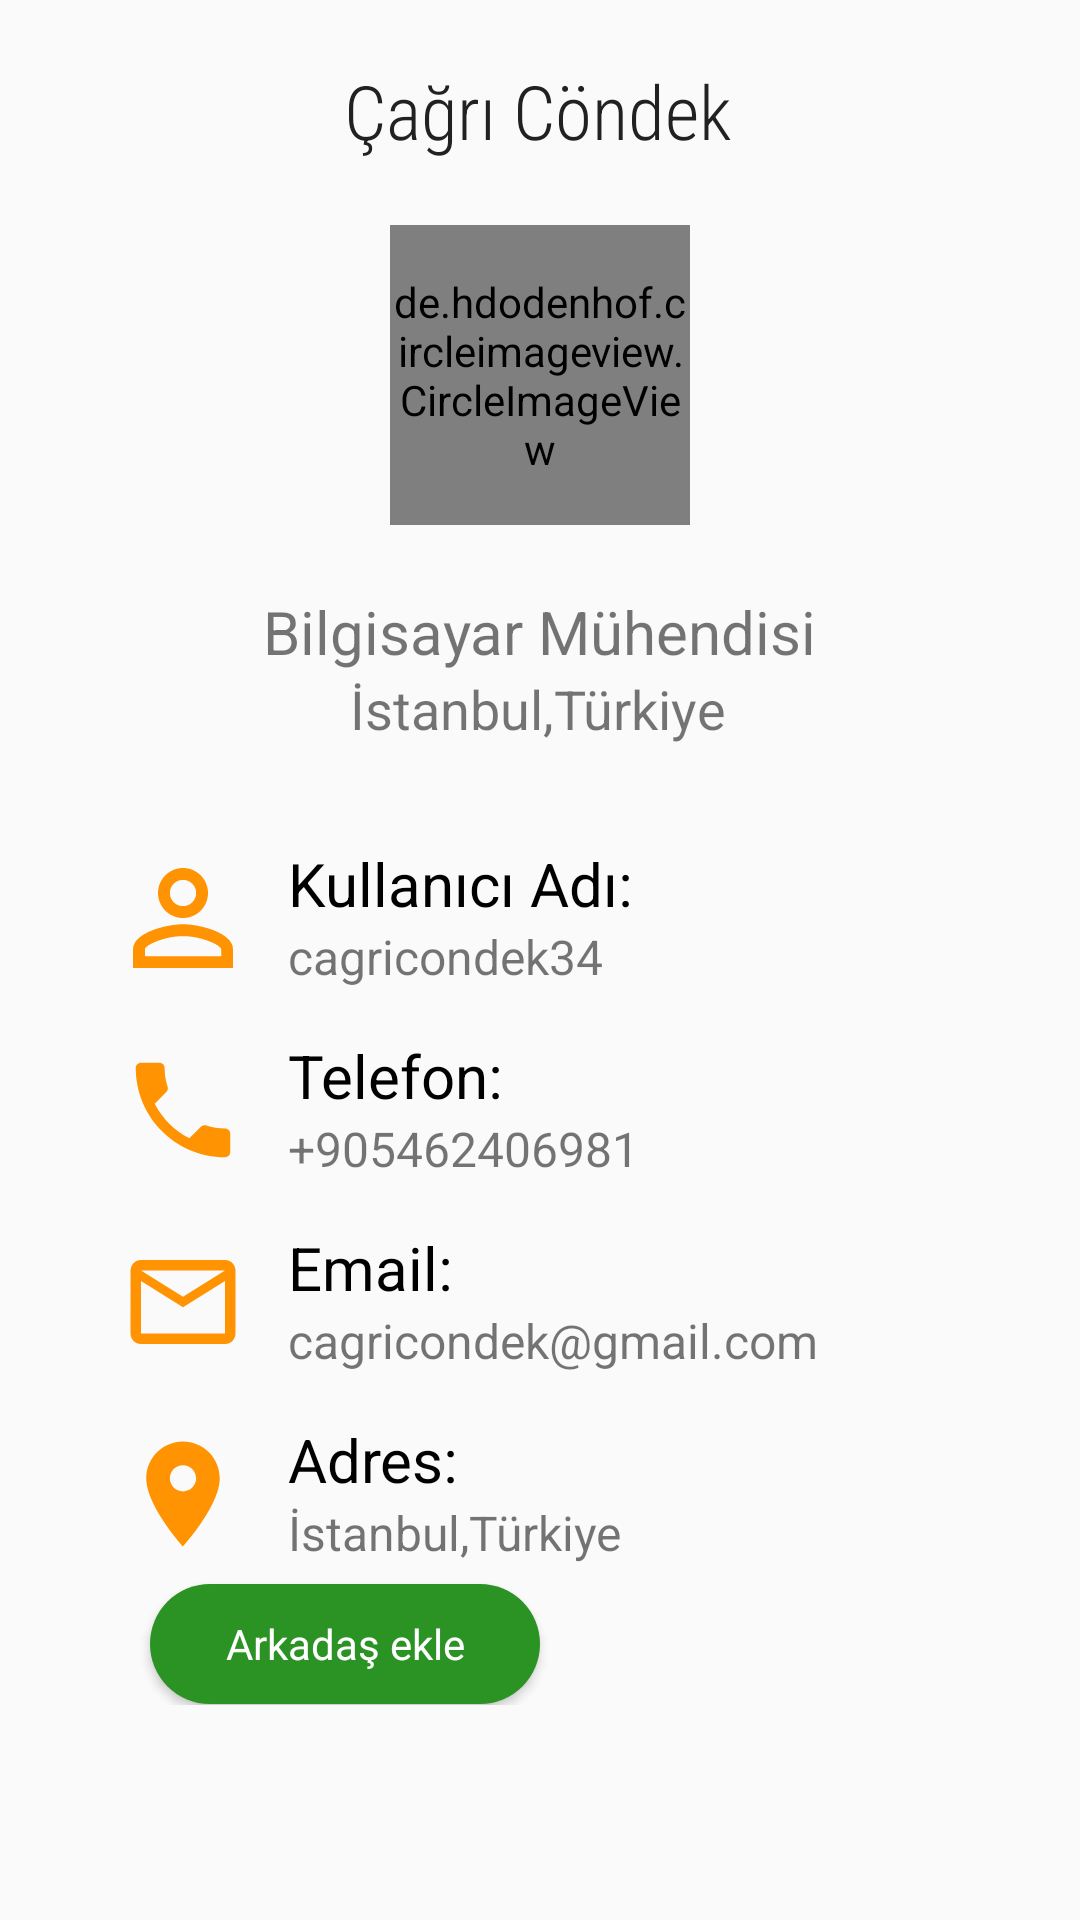

Screen size 1080px×1920px. Icon name, then its box in pixels as bbox(x1, y1, x2, y2):
address: bbox(146, 1441, 220, 1547)
phone: bbox(135, 1062, 231, 1158)
profile: bbox(133, 868, 233, 968)
